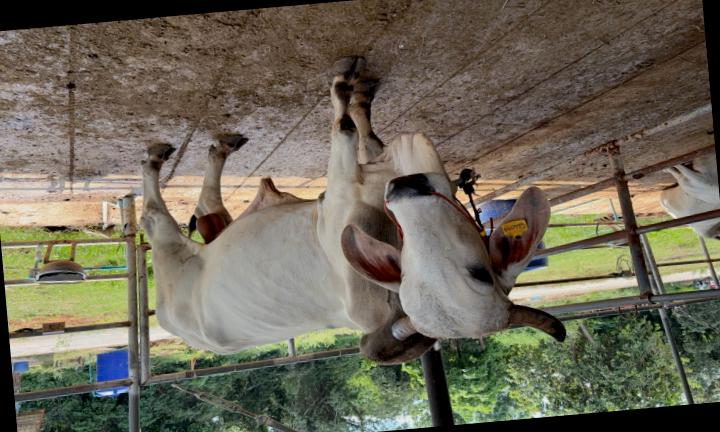Brahman: (141, 57, 566, 364)
